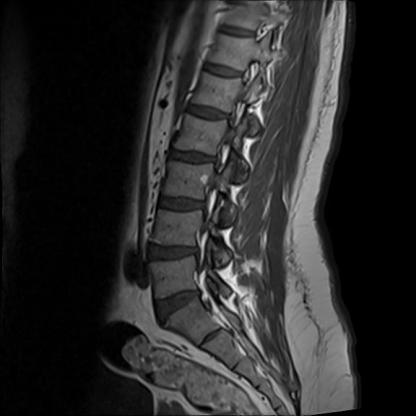Disc Bulgerotation: (152, 287, 211, 322), (144, 237, 205, 267)
